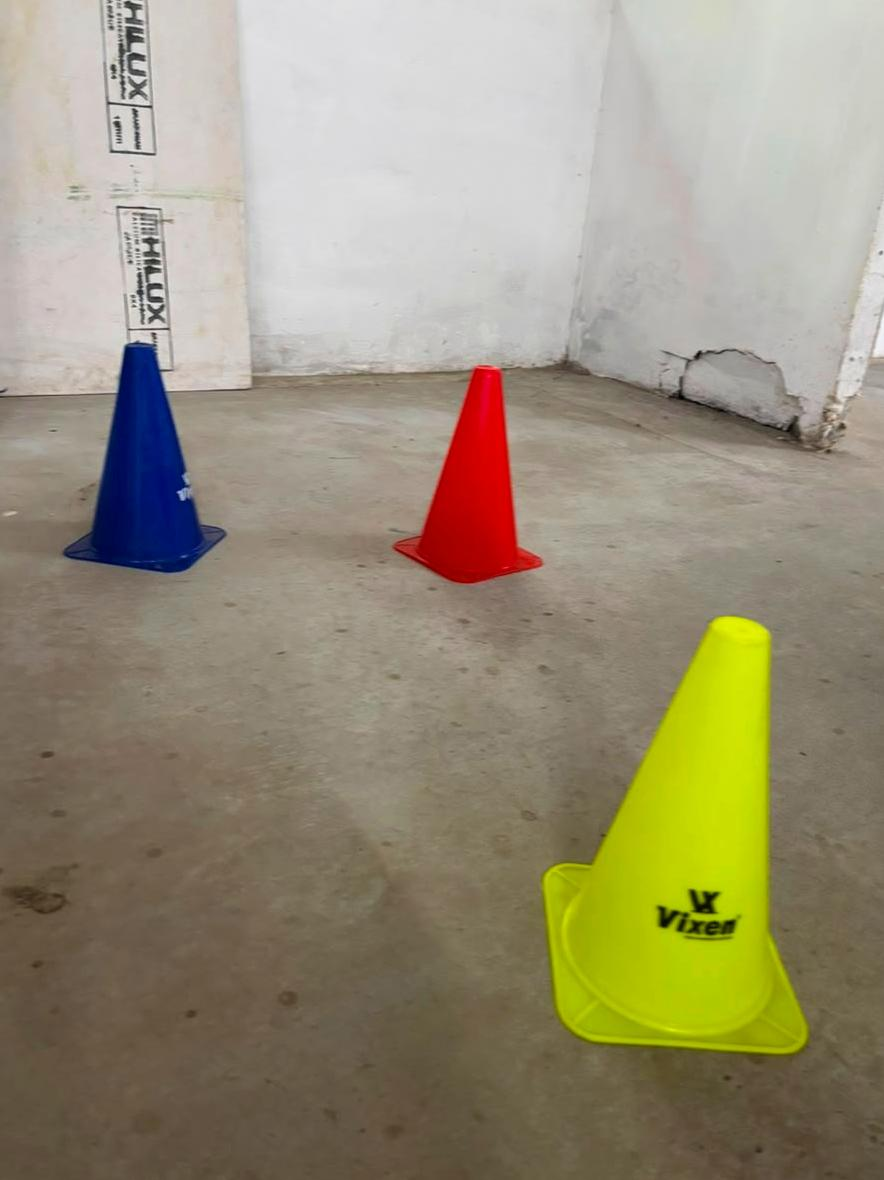0 cone: (543, 617, 806, 1053), (544, 617, 806, 1053), (64, 343, 225, 571), (66, 344, 223, 569), (393, 366, 541, 583), (394, 367, 541, 583)
